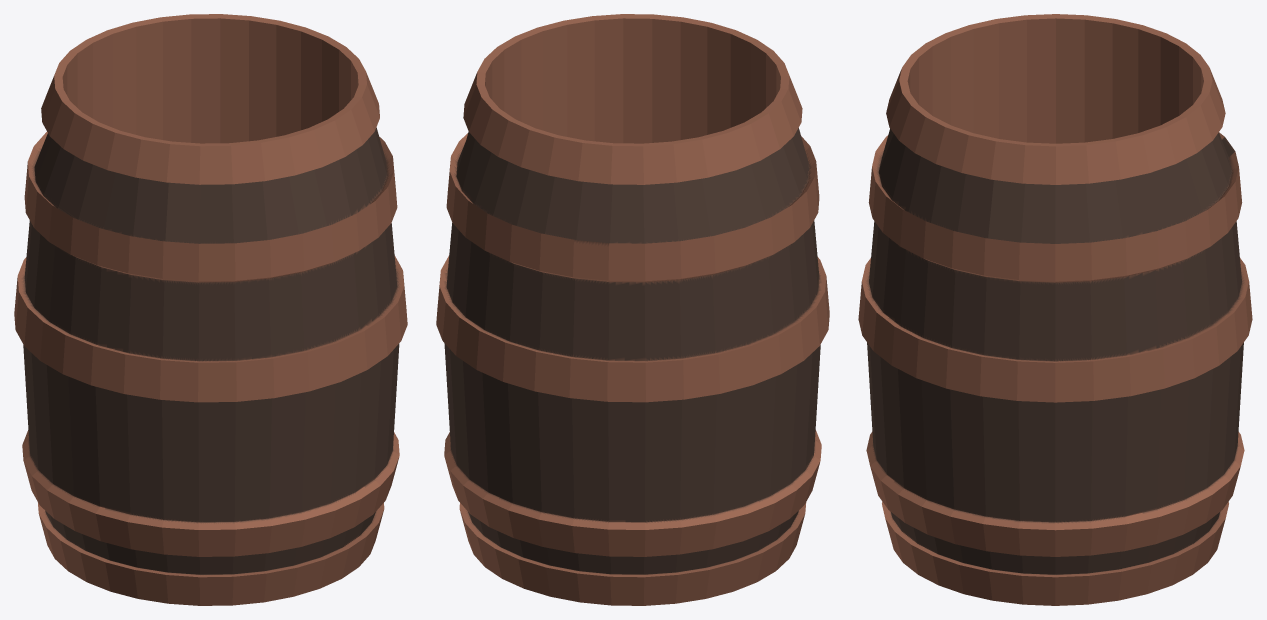
Rendered from barrel2.fbx.
3 renders of one model, left to right at view 1: azimuth 30°, elevation 25°; view 2: azimuth 150°, elevation 25°; view 3: azimuth 270°, elevation 25°, orthographic.
Parts seen in each view (by area): view 1: BarrelOpen; view 2: BarrelOpen; view 3: BarrelOpen.
Boxes of the visible parts, x1=… form: BarrelOpen: x1=14, y1=14, x2=407, y2=605; BarrelOpen: x1=436, y1=14, x2=829, y2=605; BarrelOpen: x1=858, y1=14, x2=1252, y2=605.
Bounding box in the file's own units: 1.22 × 1.55 × 1.22.
